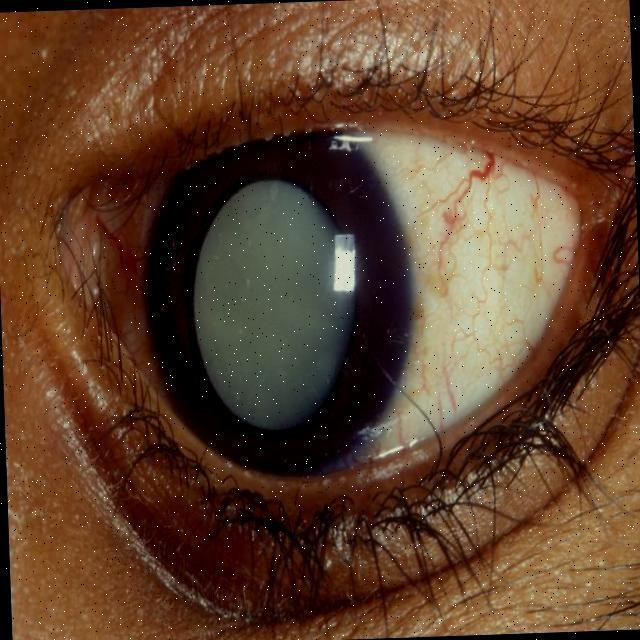Cataract: (106, 145, 426, 478)
